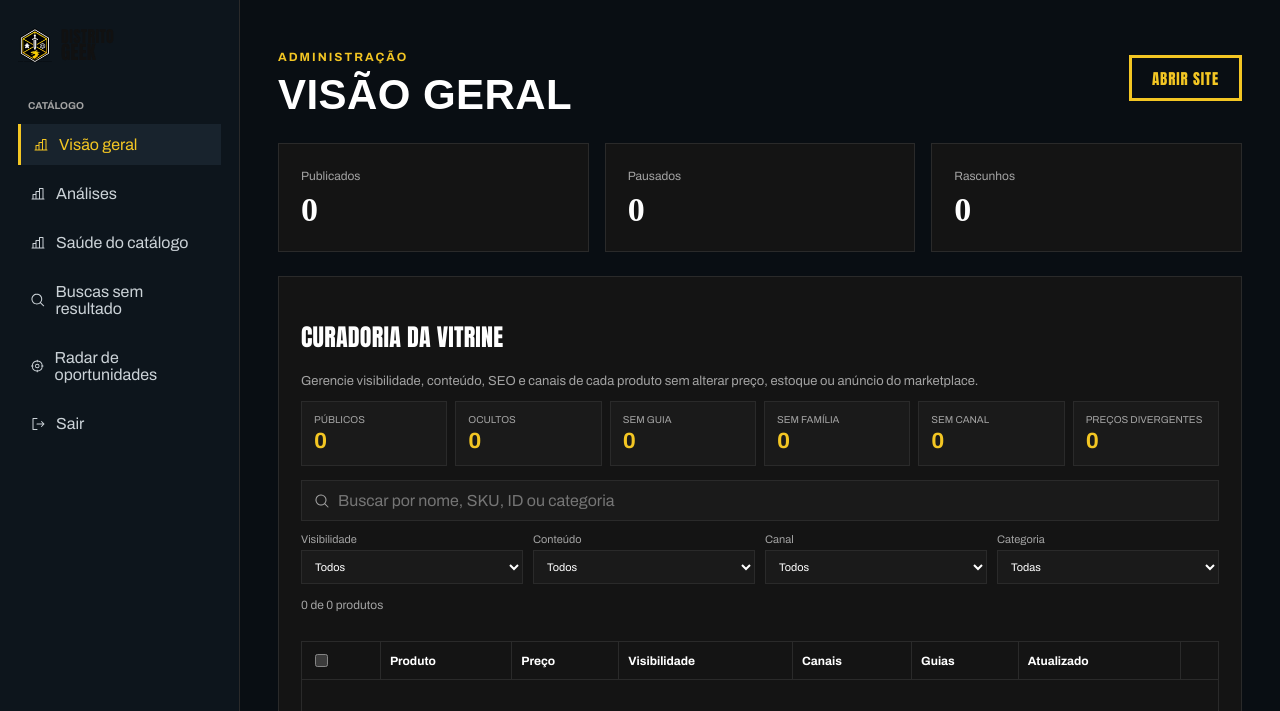
Test case: renderiza funil editorial, visão por cluster, tendências e landings orgânicas
The width and height of the screenshot is (1280, 711).
Click the button "Análises" at (120, 194), box [18,173,221,214]
(page scrolled)
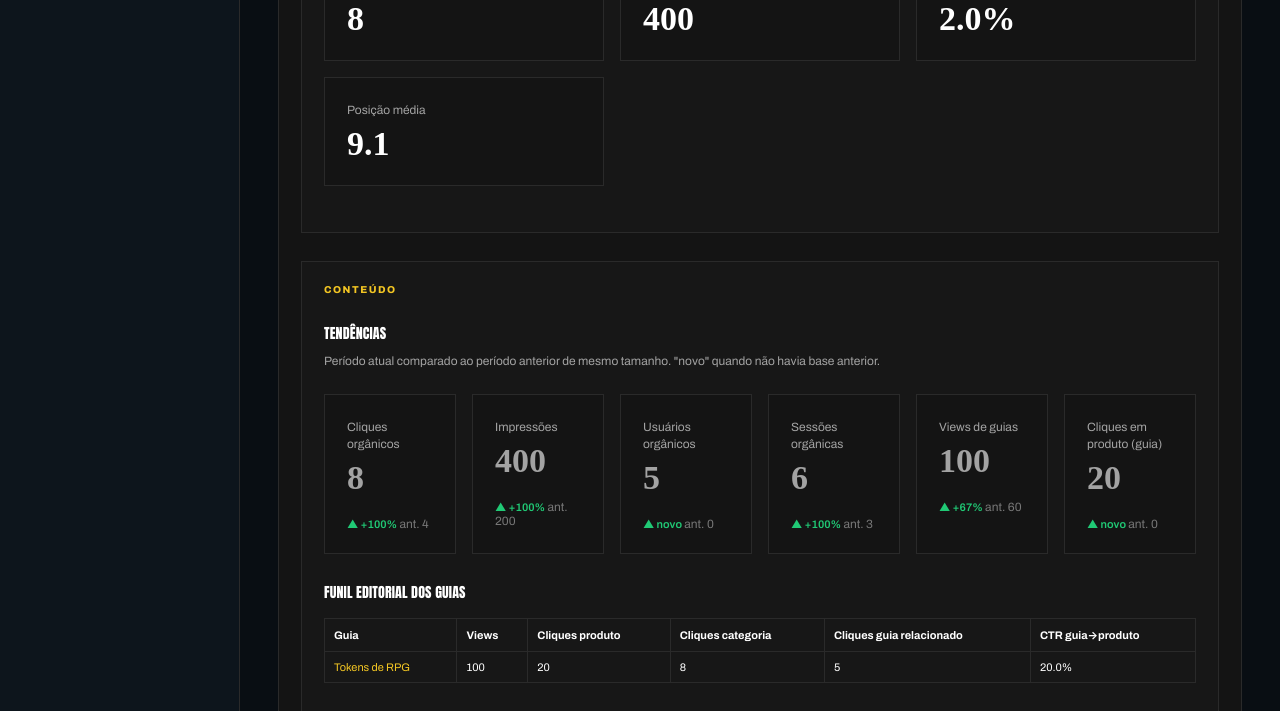
Check: the heading "Funil editorial dos guias" is shown, box [324,582,466,603]
Check: the heading "Tendências" is shown, box [324,323,386,344]
Check: the link "Tokens de RPG" is shown, box [334,661,410,673]
